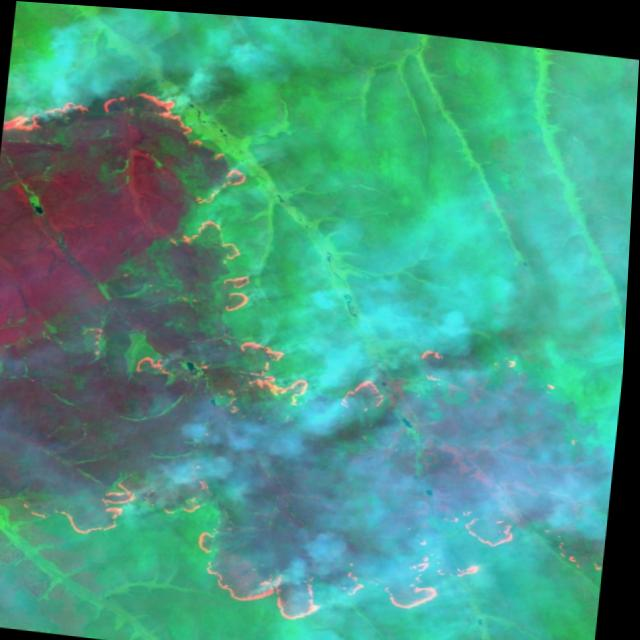fire: (0, 70, 637, 640)
